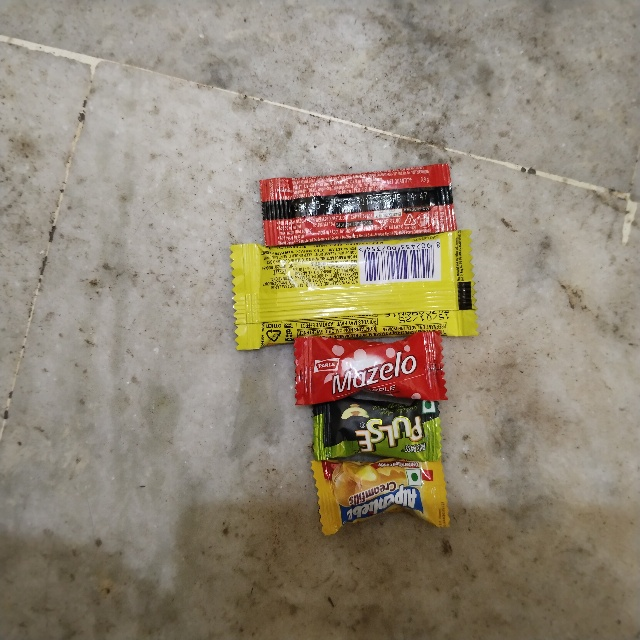Alpenlibe Creamfills: (317, 465, 447, 526)
Mazelo: (291, 403, 356, 556)
Nescafe Coffee: (258, 180, 455, 250)
Orbit: (226, 250, 471, 352)
Pulse: (311, 403, 441, 465)
